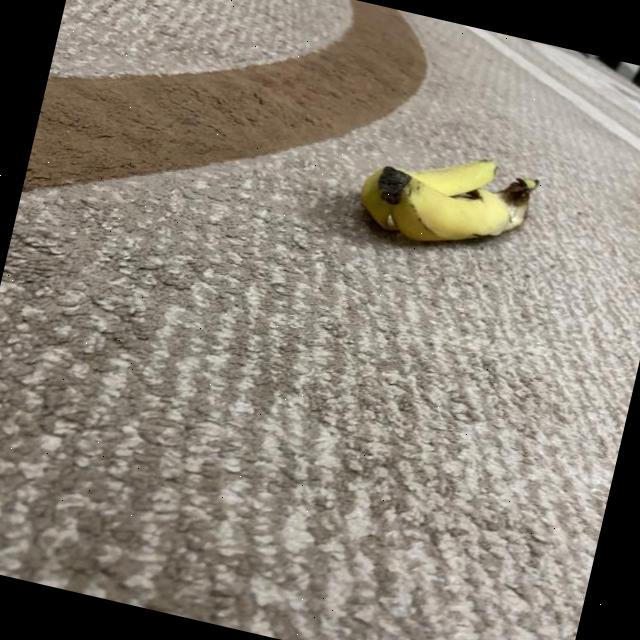banana-peel: (350, 130, 540, 265)
